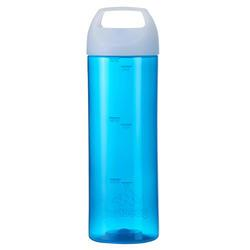PP: (86, 7, 159, 245)
